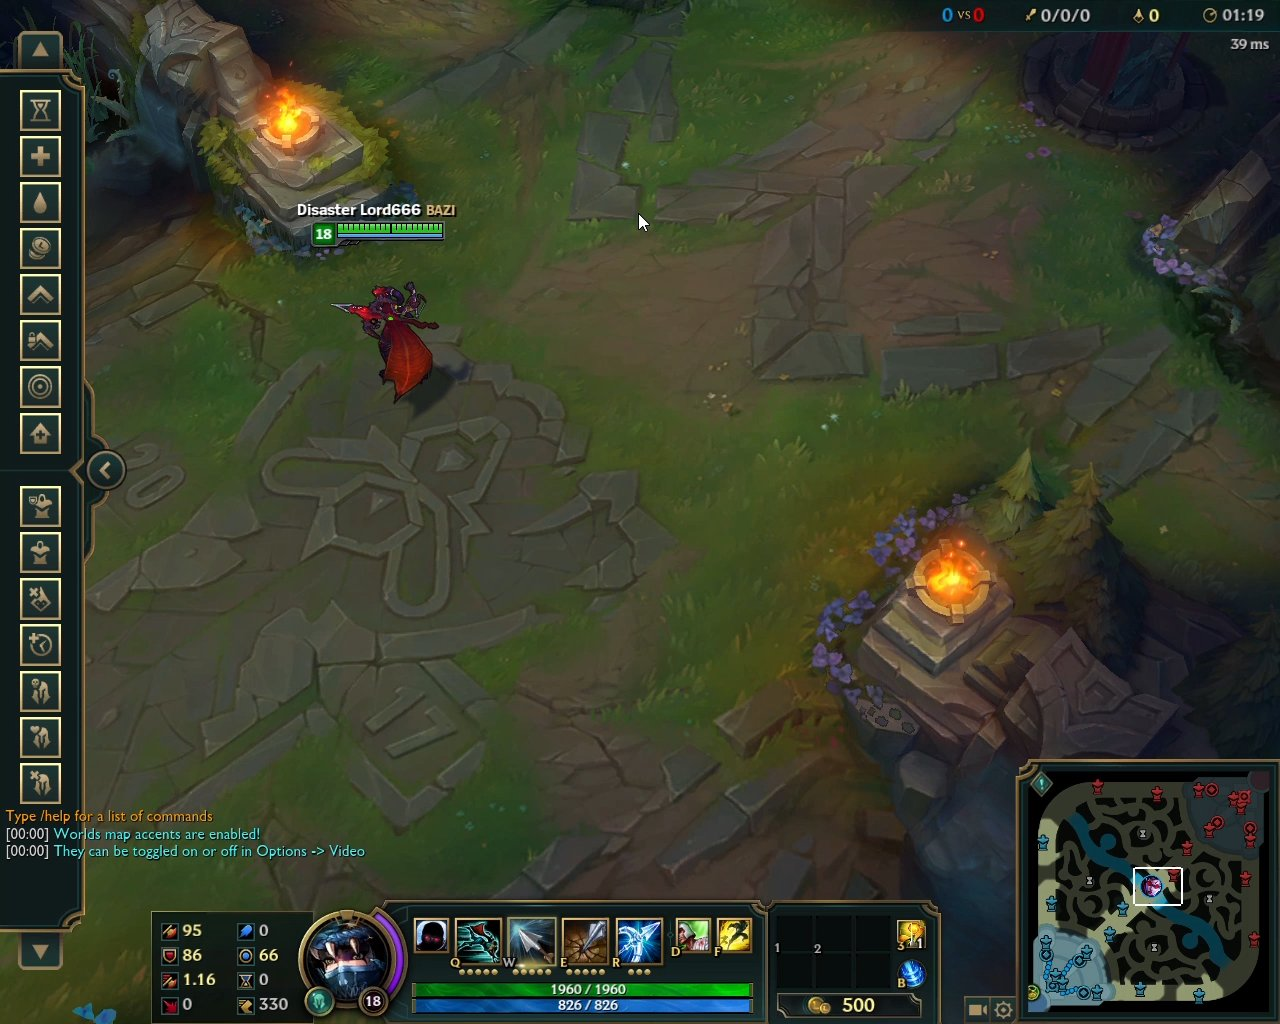Vayne: (330, 279, 439, 412)
